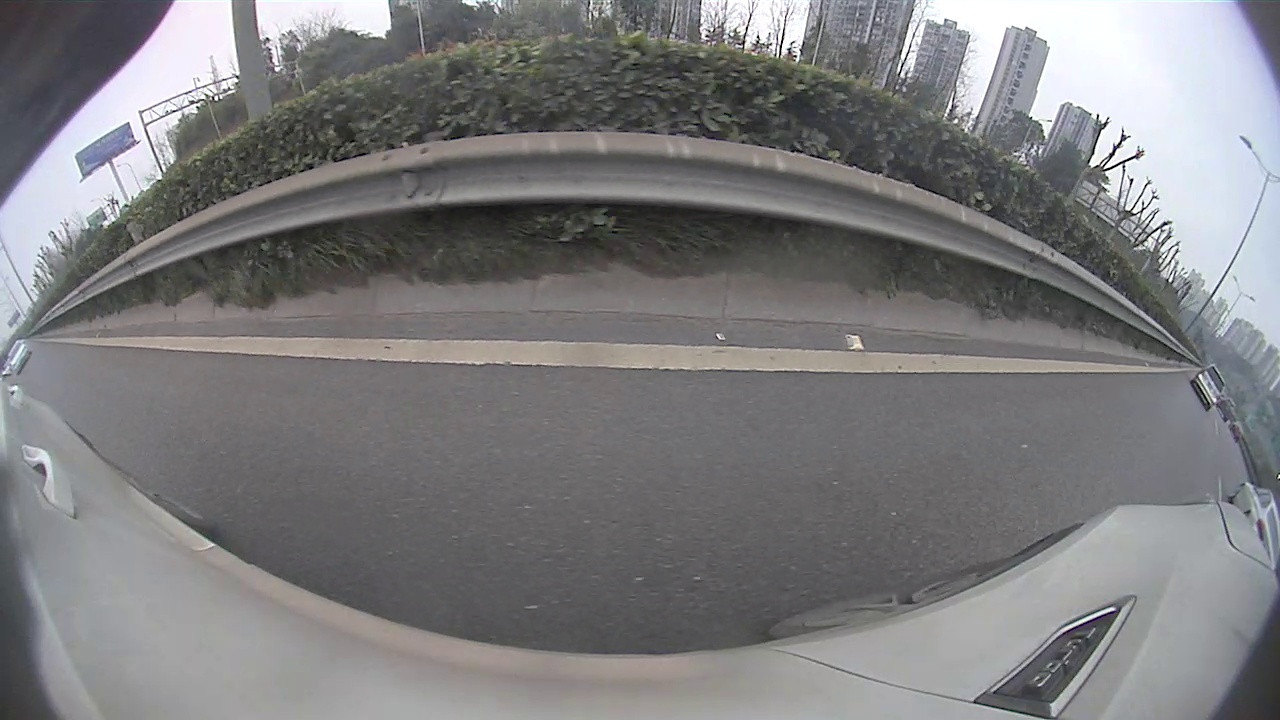car: (1230, 480, 1277, 562), (1190, 364, 1226, 413), (4, 341, 30, 373)
